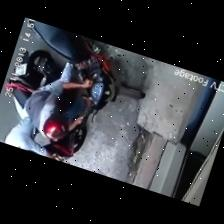person: (24, 61, 92, 138), (4, 97, 54, 158)
